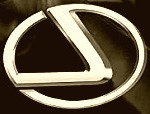Lexus: (2, 1, 150, 112)
